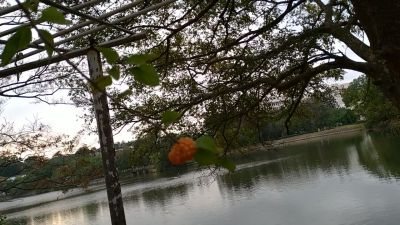eggs: (168, 136, 199, 166)
